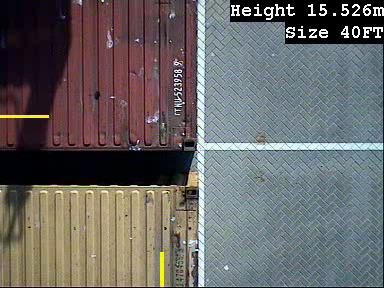groundmarker_2: (200, 24, 240, 82), (199, 169, 239, 227)
